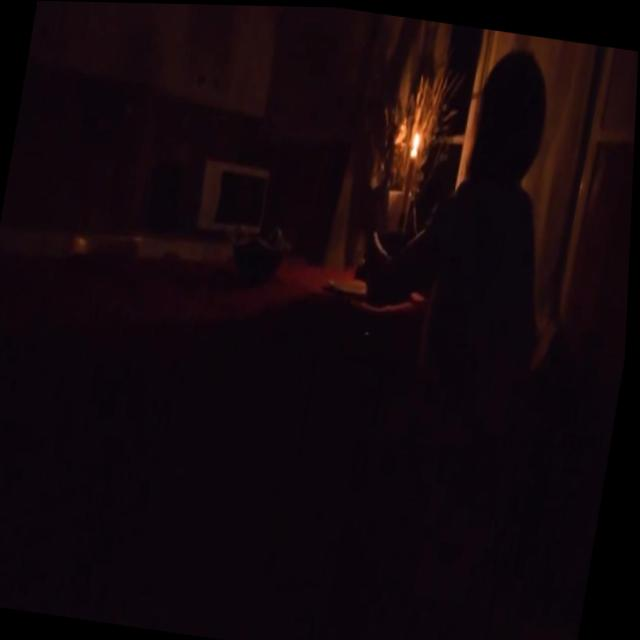fire: (410, 127, 423, 151)
